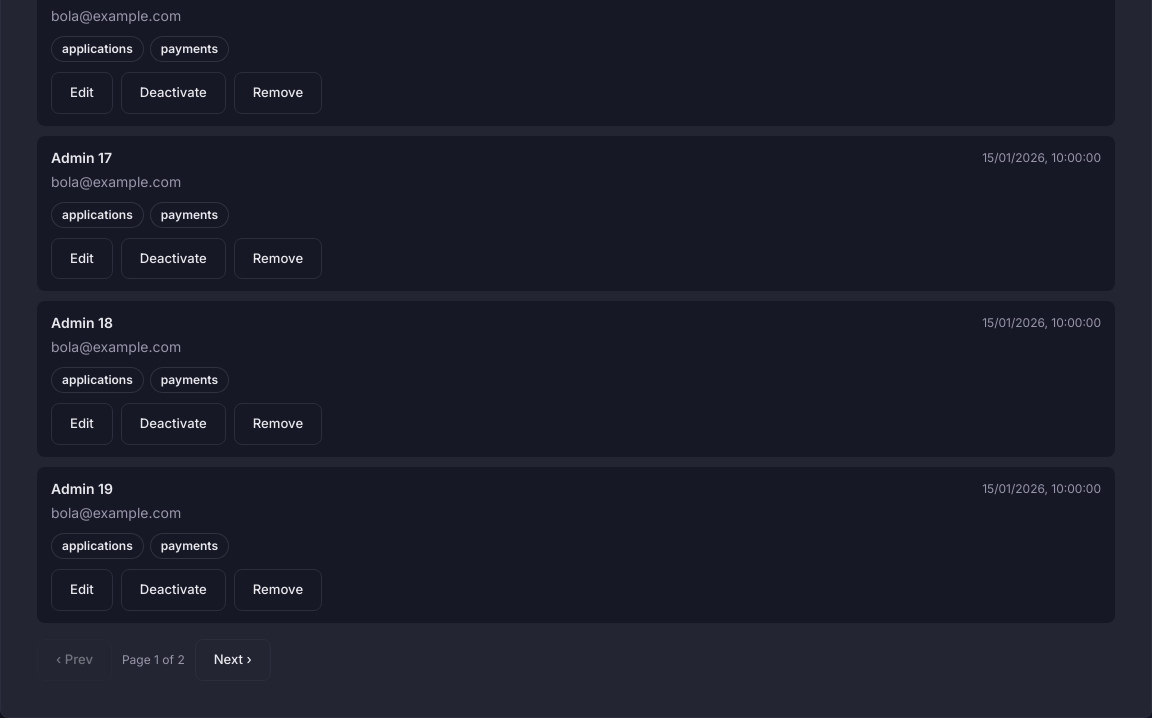
Test: AdminAccessList › paginates when there are more records than fit on one page
(page scrolled)
Expected: the text "Page 1 of 2" is shown, [122,652,185,668]
Expected: the text "Admin 20" is not shown
Click the button "Next ›".
click(233, 660)  # box [195,639,271,680]
(page scrolled)
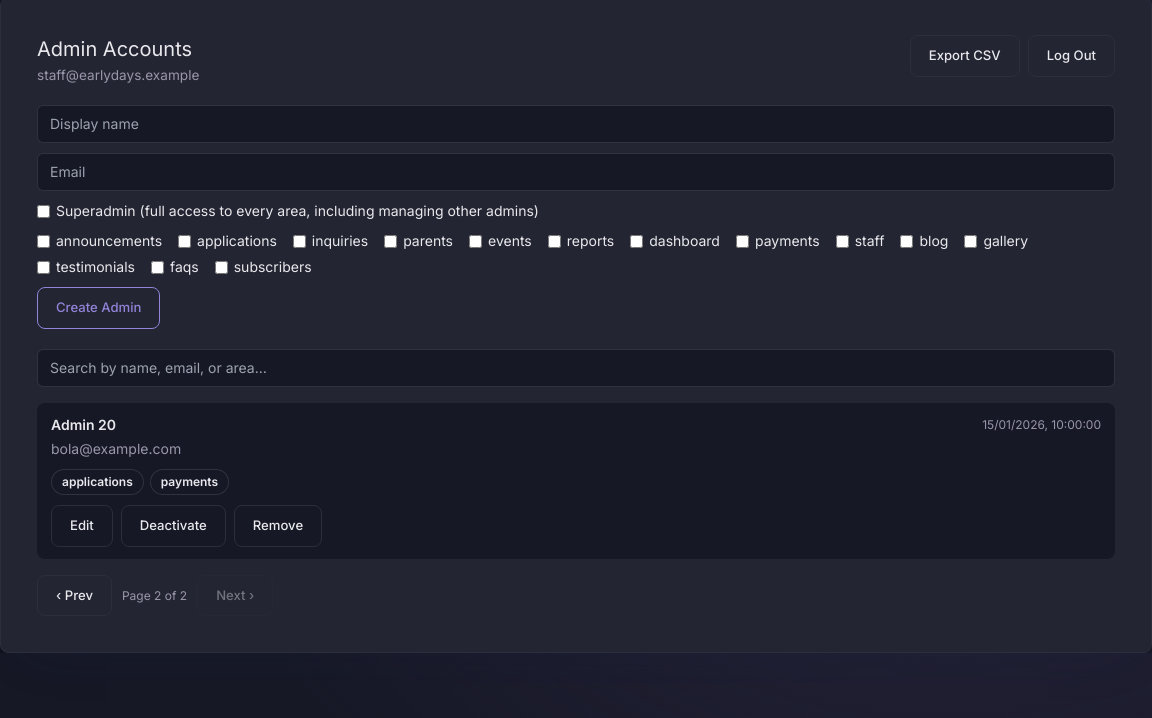
Now the text "Admin 20" is shown, box [51,415,116,435]
